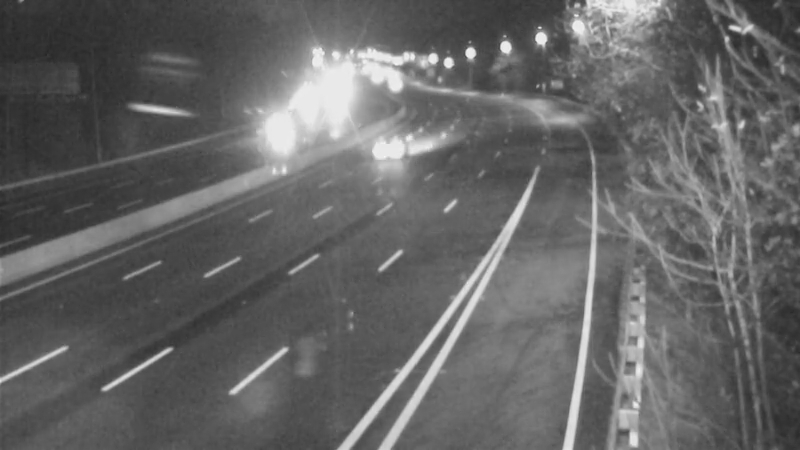vehicle: (365, 120, 415, 170), (252, 105, 302, 155)
